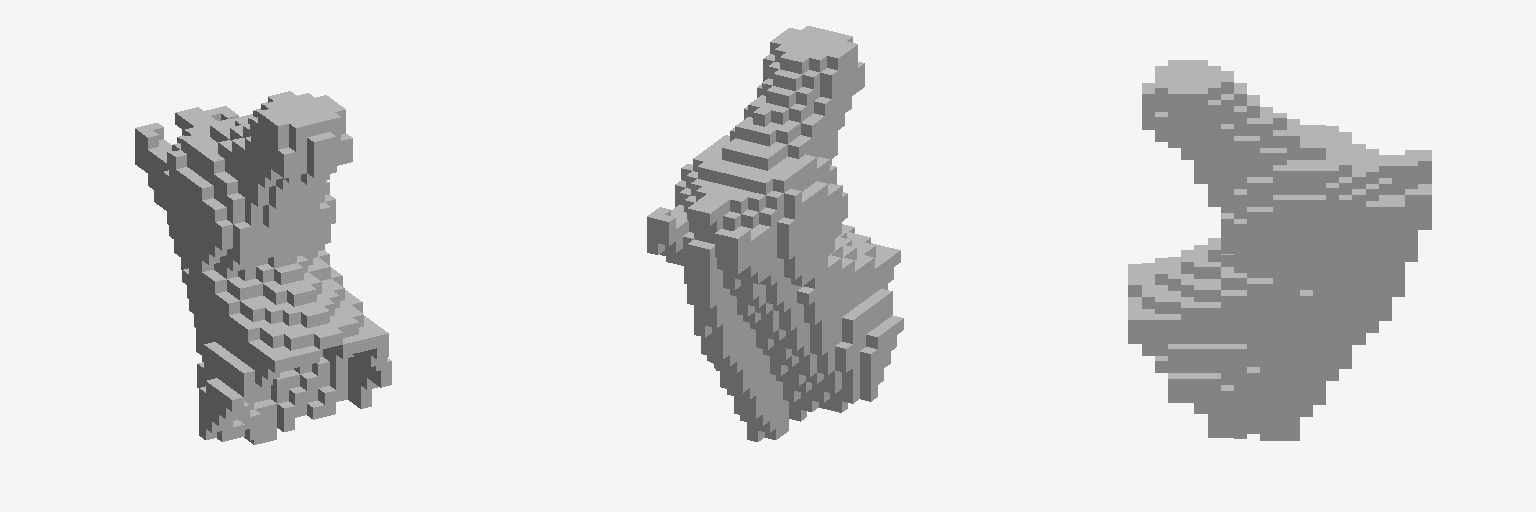
The model's file is kelpie_head.obj.
3 renders of one model, left to right at view 1: azimuth 30°, elevation 25°; view 2: azimuth 150°, elevation 25°; view 3: azimuth 270°, elevation 25°, orthographic.
Visible parts, largest first — view 1: kon; view 2: kon; view 3: kon.
Part boxes in pixels (x1,y1,x2,y2): kon: (135,91,391,444); kon: (647,26,903,441); kon: (1128,60,1431,440).
Size of the model in its own units: 14 by 30 by 23.